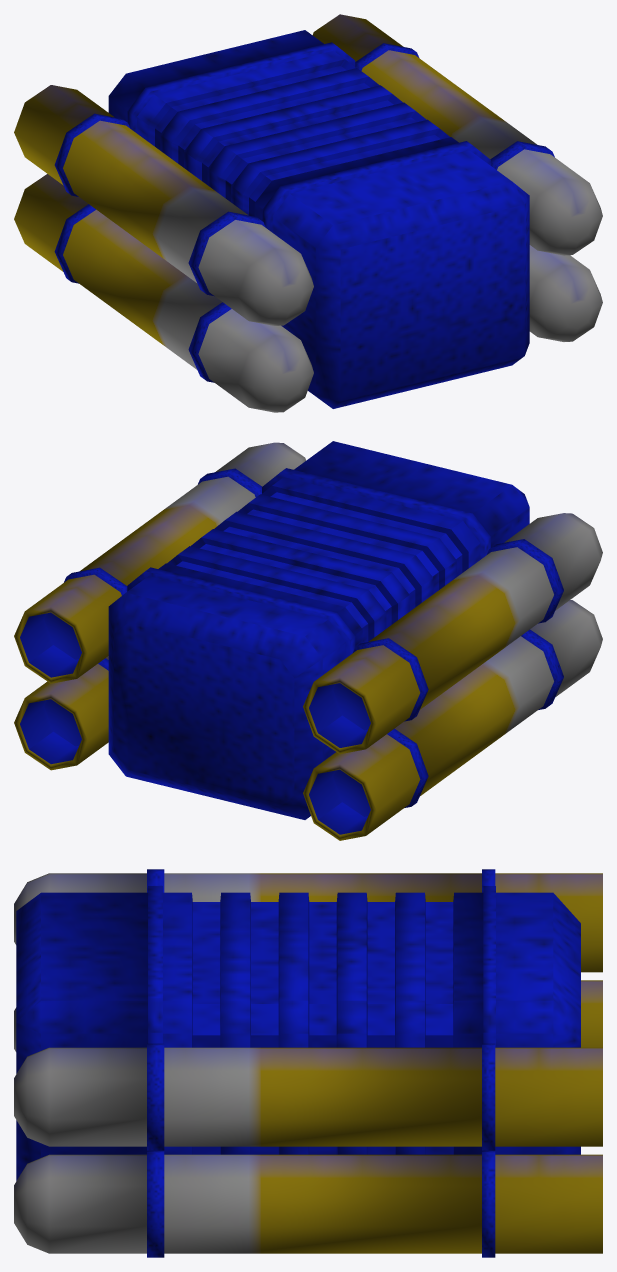
Rendered from antiAircraftT.fbx.
3 renders of one model, top to bottom at view 1: azimuth 30°, elevation 25°; view 2: azimuth 150°, elevation 25°; view 3: azimuth 270°, elevation 25°, orthographic. The views are drawn at different scales.
Visible parts, largest first — view 1: airdefense; view 2: airdefense; view 3: airdefense.
Part boxes in pixels (x1,y1,x2,y2): airdefense: (14, 14, 602, 412); airdefense: (14, 441, 602, 840); airdefense: (14, 869, 602, 1257).
Size of the model in its own units: 147 by 72.9 by 165.
